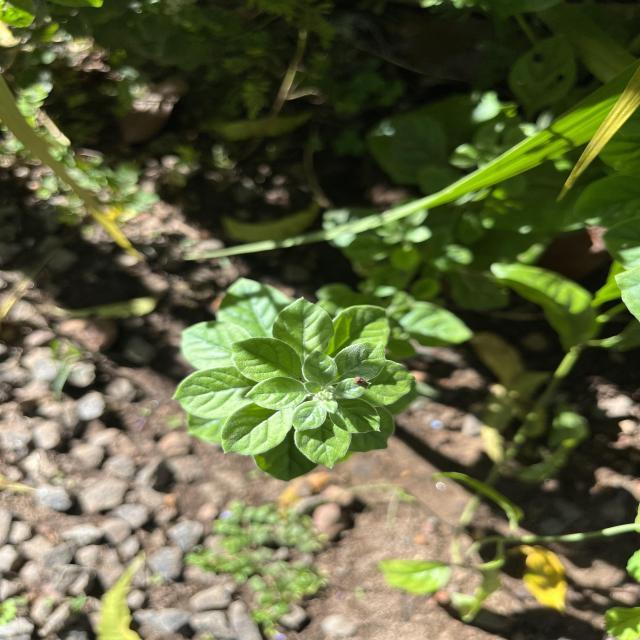Aerva lanata: (268, 293, 338, 365), (219, 400, 294, 458), (228, 336, 303, 384), (331, 338, 388, 386), (241, 375, 308, 412), (328, 396, 385, 437)
